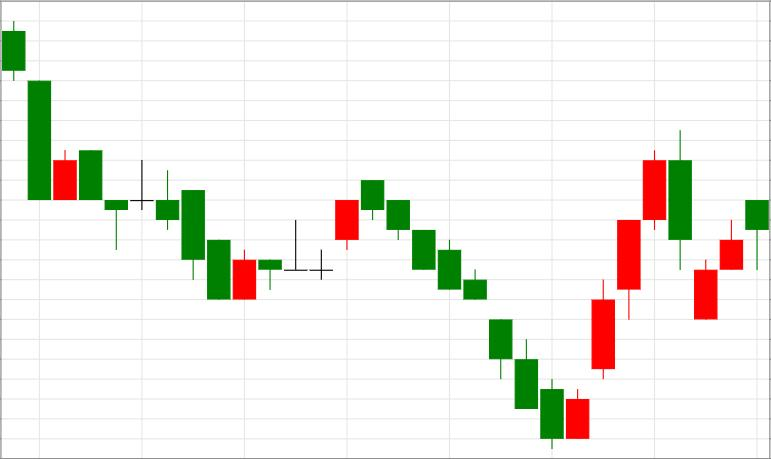bearish_engulfing_fall: (566, 131, 692, 439)
